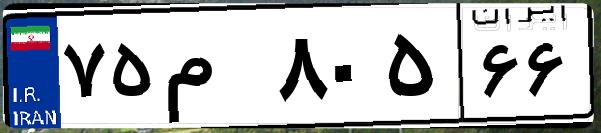0: (330, 28, 385, 110)
5: (385, 28, 445, 110), (110, 28, 158, 98)
6: (475, 38, 525, 113), (525, 38, 570, 115)
7: (57, 26, 110, 100)
8: (270, 28, 330, 110)
م: (158, 20, 270, 120)
